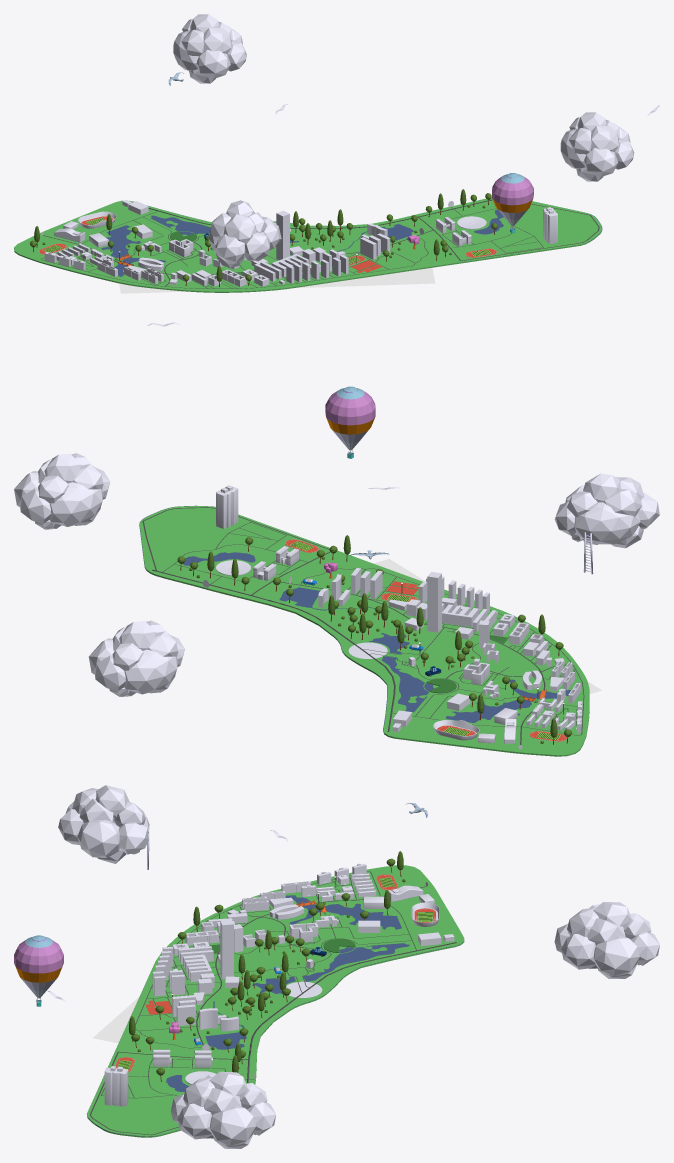
File: map.glb
3 views of the same model, one above another, from view 1: azimuth 30°, elevation 25°; view 2: azimuth 150°, elevation 25°; view 3: azimuth 270°, elevation 25° (orthographic). The views are drawn at different scales.
Parts seen in each view (by area): view 1: grassFloor, cloud.002, cloud.001, cloud, grassFloor.001, balloon, FocusPlane, map_2.osm_roads_service, 图书馆, 人才公寓1栋, map_2.osm_roads_residential; view 2: grassFloor, cloud, cloud.001, cloud.002, grassFloor.001, balloon, map_2.osm_roads_service, 人才公寓1栋, 图书馆, map_2.osm_roads_residential, 基础实验大楼; view 3: grassFloor, cloud.002, cloud.001, cloud, grassFloor.001, balloon, map_2.osm_roads_service, 人才公寓1栋, 图书馆, FocusPlane, map_2.osm_roads_residential, 基础实验大楼.
Part boxes in pixels (<box>): grassFloor: <box>14,197,601,292</box>; cloud.002: <box>560,112,634,181</box>; cloud.001: <box>173,14,246,83</box>; cloud: <box>208,200,281,267</box>; grassFloor.001: <box>101,201,602,276</box>; balloon: <box>492,173,533,233</box>; FocusPlane: <box>119,267,435,293</box>; map_2.osm_roads_service: <box>41,207,543,288</box>; 图书馆: <box>276,210,289,260</box>; 人才公寓1栋: <box>543,207,557,243</box>; map_2.osm_roads_residential: <box>43,204,599,286</box>; grassFloor: <box>139,506,589,756</box>; cloud: <box>554,473,659,548</box>; cloud.001: <box>88,620,184,696</box>; cloud.002: <box>14,453,110,529</box>; grassFloor.001: <box>139,505,571,732</box>; balloon: <box>325,386,375,458</box>; map_2.osm_roads_service: <box>162,522,584,735</box>; 人才公寓1栋: <box>216,485,238,528</box>; 图书馆: <box>427,571,441,632</box>; map_2.osm_roads_residential: <box>142,507,566,744</box>; 基础实验大楼: <box>442,603,478,627</box>; grassFloor: <box>87,865,464,1137</box>; cloud.002: <box>170,1071,275,1148</box>; cloud.001: <box>554,902,659,978</box>; cloud: <box>58,785,149,863</box>; grassFloor.001: <box>87,895,459,1136</box>; balloon: <box>14,935,63,1006</box>; map_2.osm_roads_service: <box>101,871,416,1098</box>; 人才公寓1栋: <box>104,1066,128,1106</box>; 图书馆: <box>220,919,233,979</box>; FocusPlane: <box>93,896,253,1043</box>; map_2.osm_roads_residential: <box>90,886,426,1135</box>; 基础实验大楼: <box>183,954,211,982</box>.
Size of what is drawn, in the model's own units: 32.27 by 7.75 by 28.34.
Materials: 51 (4 with a texture image).
